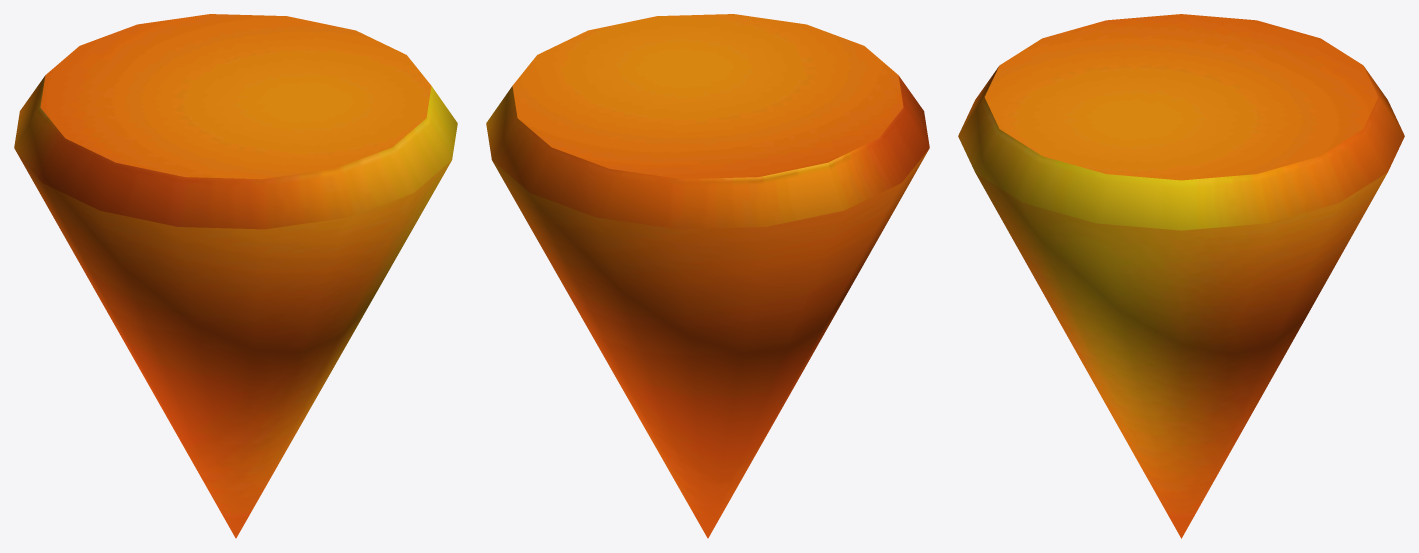
Rendered from pointModel.FBX.
3 views of the same model, side by side, from view 1: azimuth 30°, elevation 25°; view 2: azimuth 150°, elevation 25°; view 3: azimuth 270°, elevation 25° (orthographic).
Visible parts, largest first — view 1: Cylinder001; view 2: Cylinder001; view 3: Cylinder001.
Part boxes in pixels (<box>): Cylinder001: <box>14,14,457,538</box>; Cylinder001: <box>486,14,929,538</box>; Cylinder001: <box>958,14,1404,538</box>.
Size of the model in its own units: 1.69 by 1.85 by 1.69.
